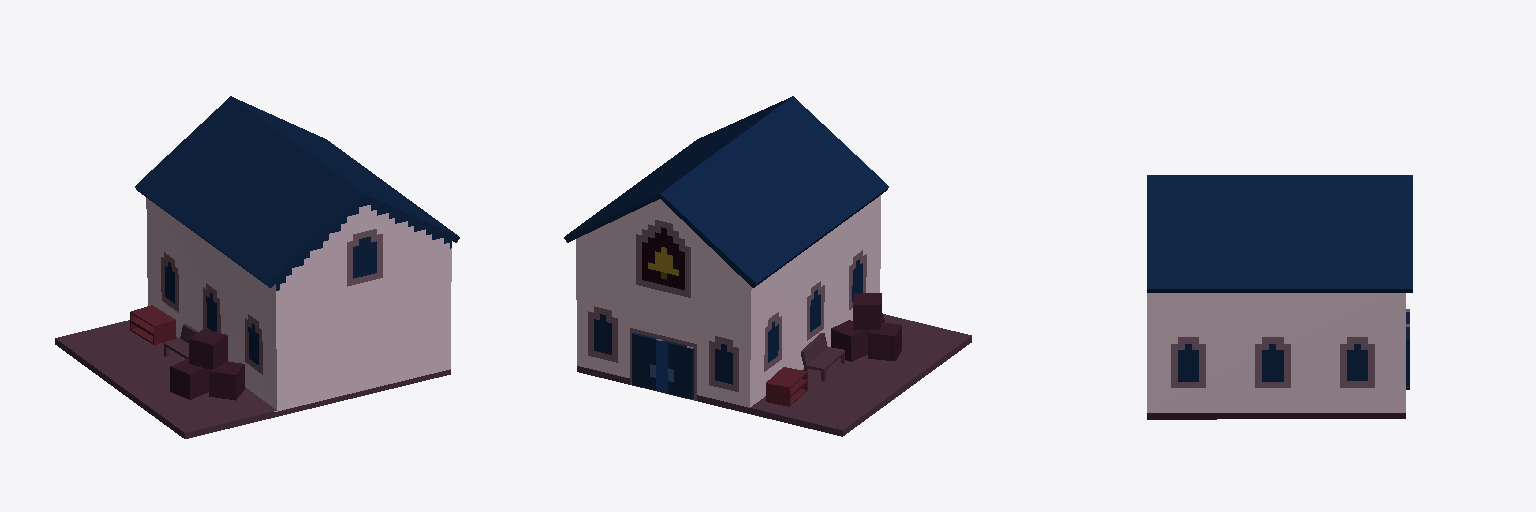
3 views of the same model, side by side, from view 1: azimuth 30°, elevation 25°; view 2: azimuth 150°, elevation 25°; view 3: azimuth 270°, elevation 25° (orthographic).
Visible parts, largest first — view 1: building, shelf, crate2, crate3, crate4, bench; view 2: building, front door, shelf, crate3, crate, bench, crate2; view 3: building.
Boxes of the visible parts, <box> form: building: <box>55,96,459,438</box>; shelf: <box>130,305,175,344</box>; crate2: <box>189,329,227,369</box>; crate3: <box>170,359,209,399</box>; crate4: <box>209,361,244,400</box>; bench: <box>164,324,197,358</box>; building: <box>564,96,971,436</box>; front door: <box>632,333,693,398</box>; shelf: <box>766,367,807,406</box>; crate3: <box>868,323,901,360</box>; crate: <box>831,320,869,361</box>; bench: <box>801,333,844,381</box>; crate2: <box>853,293,881,329</box>; building: <box>1147,175,1412,419</box>.
Size of the model in its own units: 2.84 by 1.99 by 2.38.
Materials: 1 (1 with a texture image).